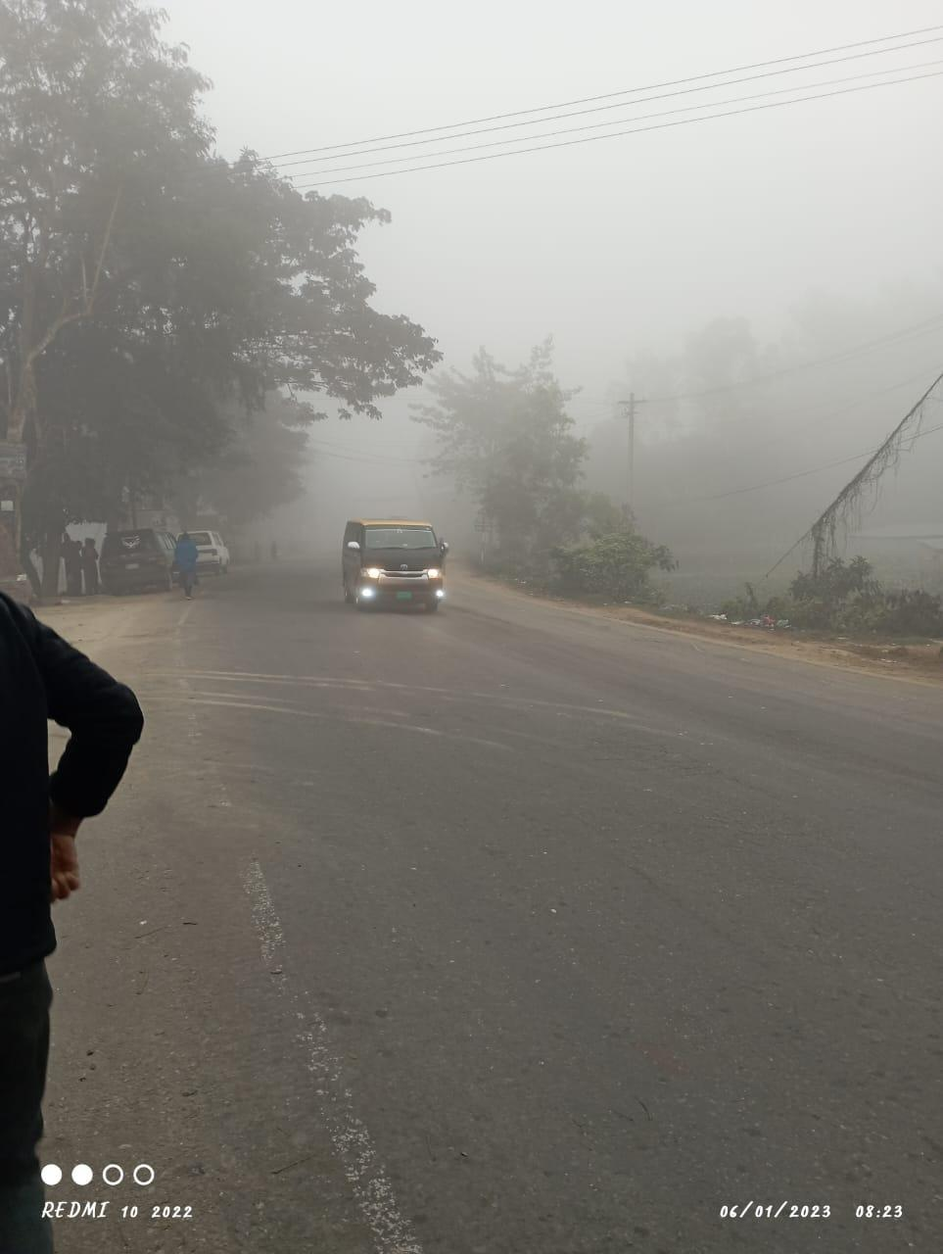Car: (326, 512, 460, 619), (94, 525, 184, 588), (174, 524, 235, 573)
